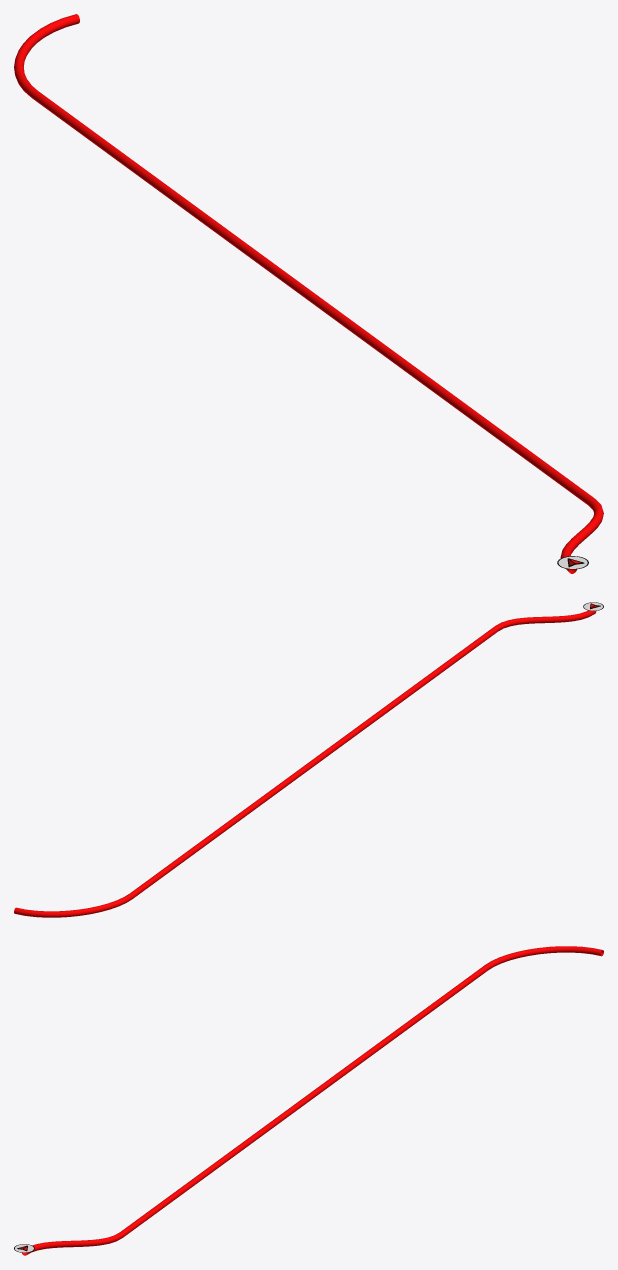
The model's file is route_b28cb574-88d7-4ce3-b6c0-8f0b0e402729_de_single.glb.
The picture shows the model from 3 angles, top to bottom: view 1: azimuth 30°, elevation 25°; view 2: azimuth 150°, elevation 25°; view 3: azimuth 330°, elevation 25°; orthographic projection. The views are drawn at different scales.
Parts seen in each view (by area): view 1: Metallabteilung; view 2: Metallabteilung; view 3: Metallabteilung.
Boxes of the visible parts, x1,y1,x2,y2 form: Metallabteilung: [14, 14, 603, 573]; Metallabteilung: [14, 610, 596, 917]; Metallabteilung: [22, 946, 603, 1255].
Bounding box in the file's own units: 1.94 × 0.1062 × 11.4.
